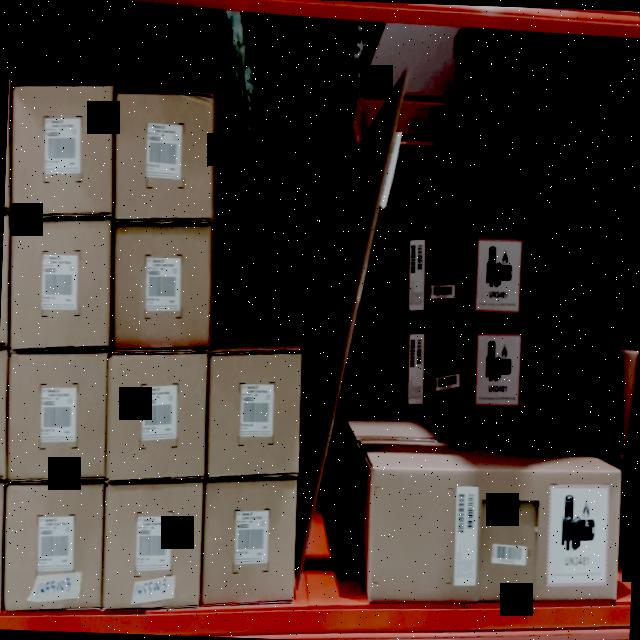box: (368, 470, 620, 600), (12, 82, 112, 218), (106, 352, 206, 481), (8, 352, 106, 482), (8, 224, 112, 346), (2, 485, 104, 609), (115, 92, 212, 220), (101, 485, 202, 607), (112, 223, 211, 347), (206, 350, 301, 478), (201, 486, 295, 602)
